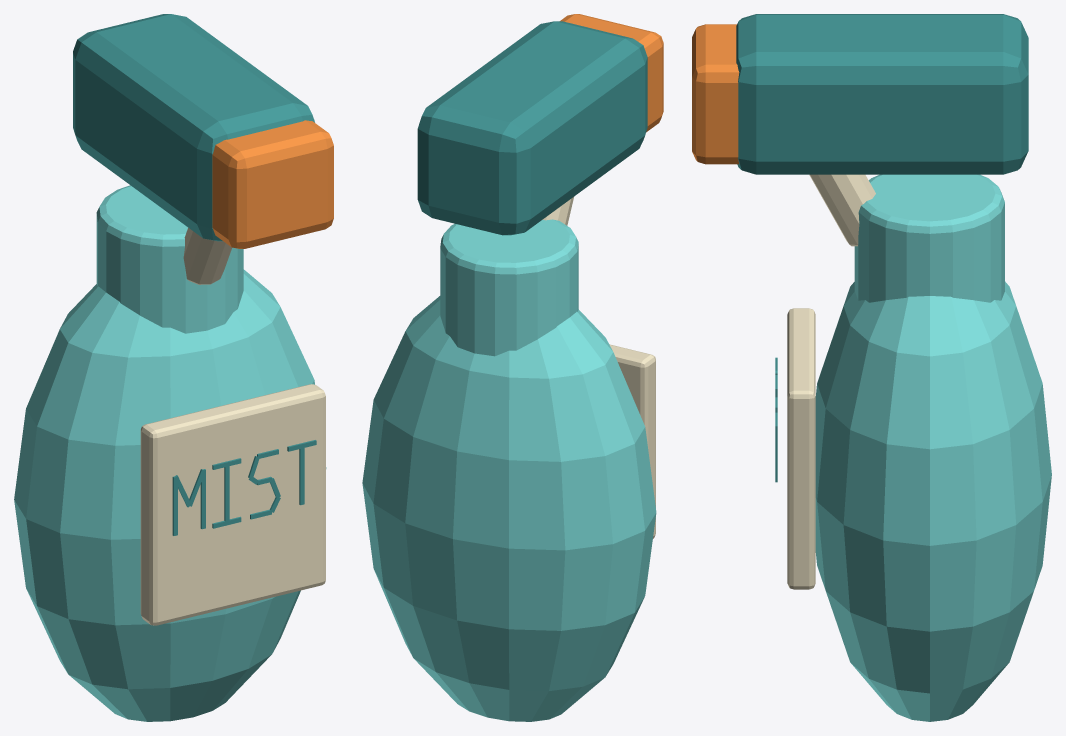
Rendered from P090_spray_bottle.glb.
The picture shows the model from 3 angles, left to right: view 1: azimuth 30°, elevation 25°; view 2: azimuth 150°, elevation 25°; view 3: azimuth 270°, elevation 25°; orthographic projection. The views are drawn at different scales.
Parts seen in each view (by area): view 1: P090_bottle_001, P090_label_006, P090_trigger_head_003, P090_nozzle_004, P090_neck_002, P090_mist_007, P090_trigger_005; view 2: P090_bottle_001, P090_trigger_head_003, P090_neck_002, P090_label_006, P090_nozzle_004; view 3: P090_bottle_001, P090_trigger_head_003, P090_neck_002, P090_label_006, P090_nozzle_004, P090_trigger_005.
Boxes of the visible parts, x1,y1,x2,y2 form: P090_bottle_001: (14, 269, 326, 721); P090_label_006: (140, 384, 325, 625); P090_trigger_head_003: (73, 14, 314, 241); P090_nozzle_004: (212, 120, 333, 248); P090_neck_002: (96, 185, 243, 333); P090_mist_007: (172, 440, 316, 535); P090_trigger_005: (183, 227, 231, 284); P090_bottle_001: (362, 296, 656, 721); P090_trigger_head_003: (417, 21, 647, 235); P090_neck_002: (440, 219, 578, 356); P090_label_006: (609, 344, 655, 538); P090_nozzle_004: (560, 14, 663, 132); P090_bottle_001: (815, 281, 1051, 721); P090_trigger_head_003: (736, 14, 1028, 174); P090_neck_002: (854, 174, 1004, 302); P090_label_006: (787, 308, 815, 589); P090_nozzle_004: (692, 24, 739, 164); P090_trigger_005: (809, 174, 875, 246).
Size of the model in its own units: 0.108 by 0.2395 by 0.115.
